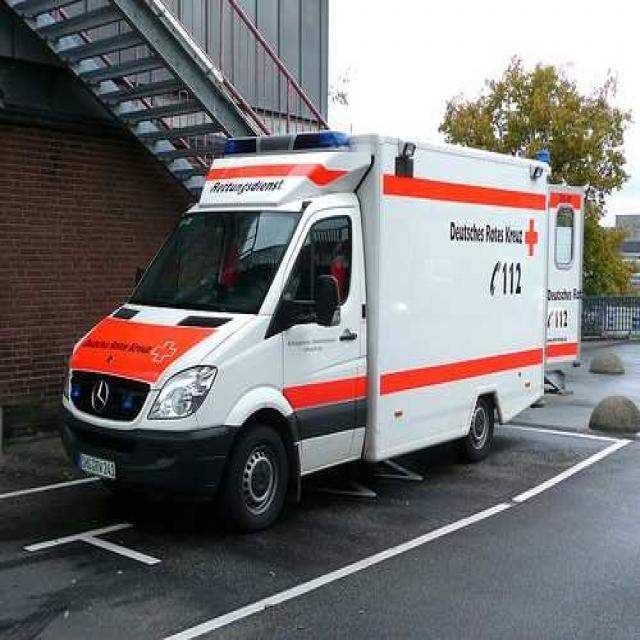emergency-vehicle: (57, 135, 588, 519)
